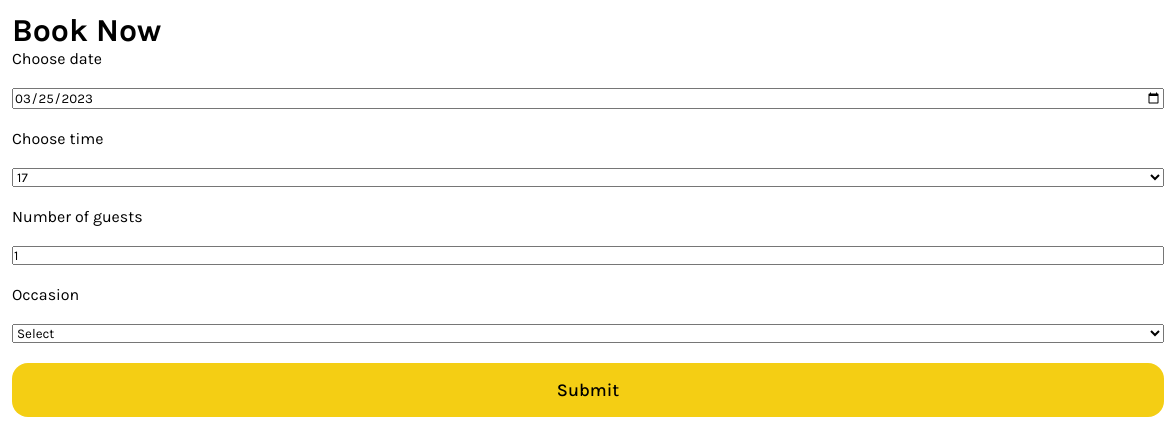
Invalid date displays required
Clear the date field labelled "Choose date" at (588, 99), box [12,88,1164,109]
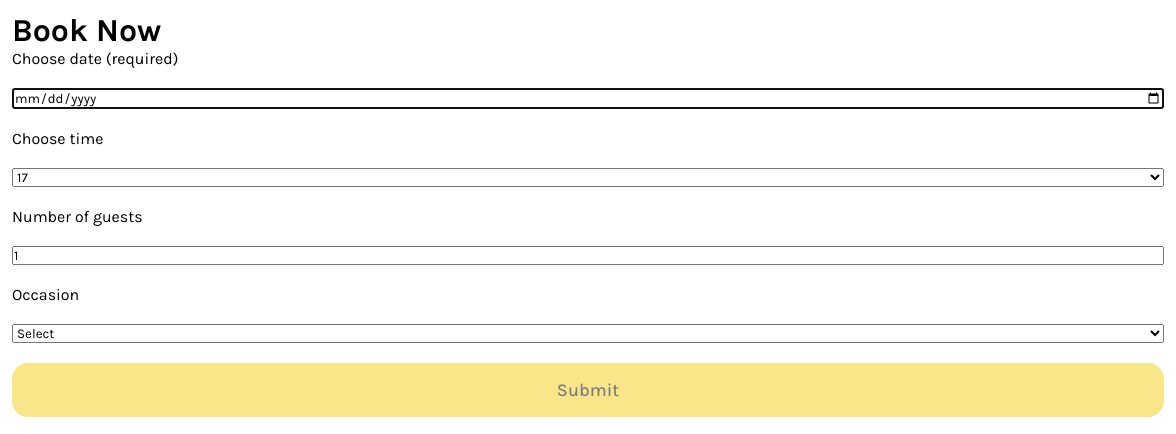
Check: the text "(required)" is shown, box [106,49,178,68]
